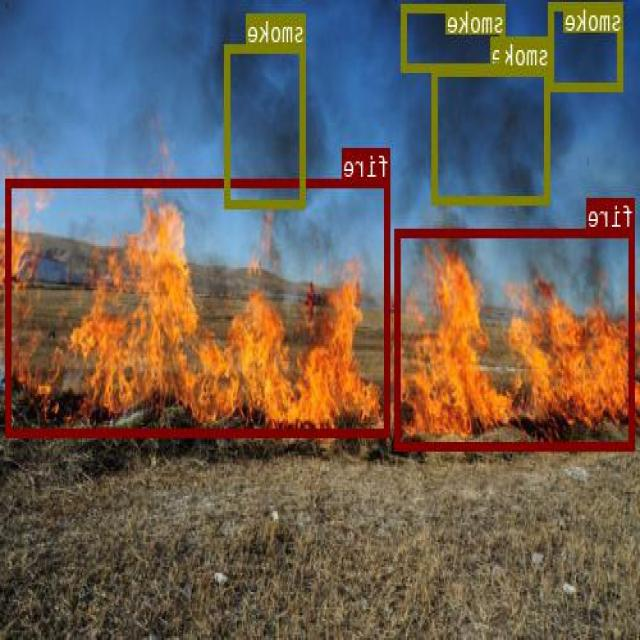fire: (7, 178, 392, 434), (396, 227, 636, 448)
smoke: (433, 66, 551, 203), (226, 43, 306, 207), (402, 3, 506, 71), (550, 1, 624, 89)
